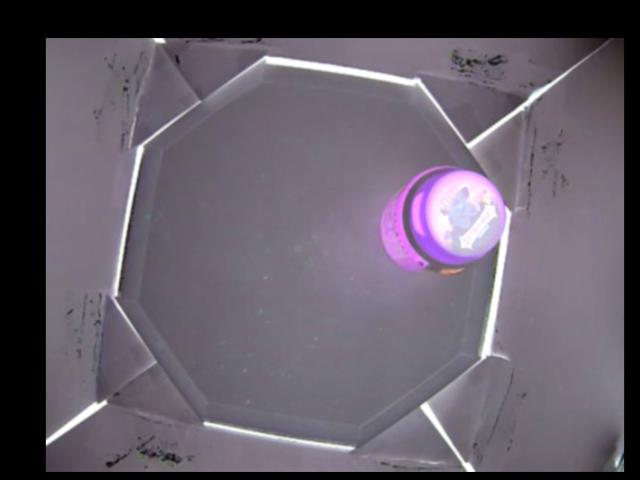Bottle: (376, 163, 505, 276)
